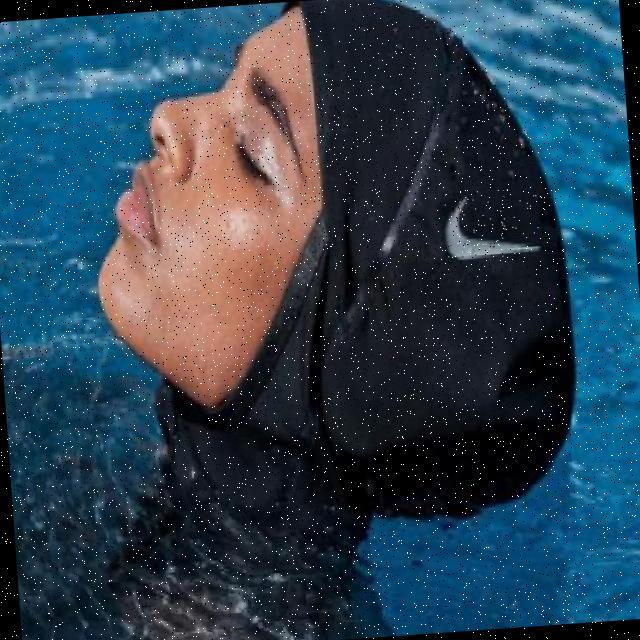Nike: (437, 185, 541, 263)
